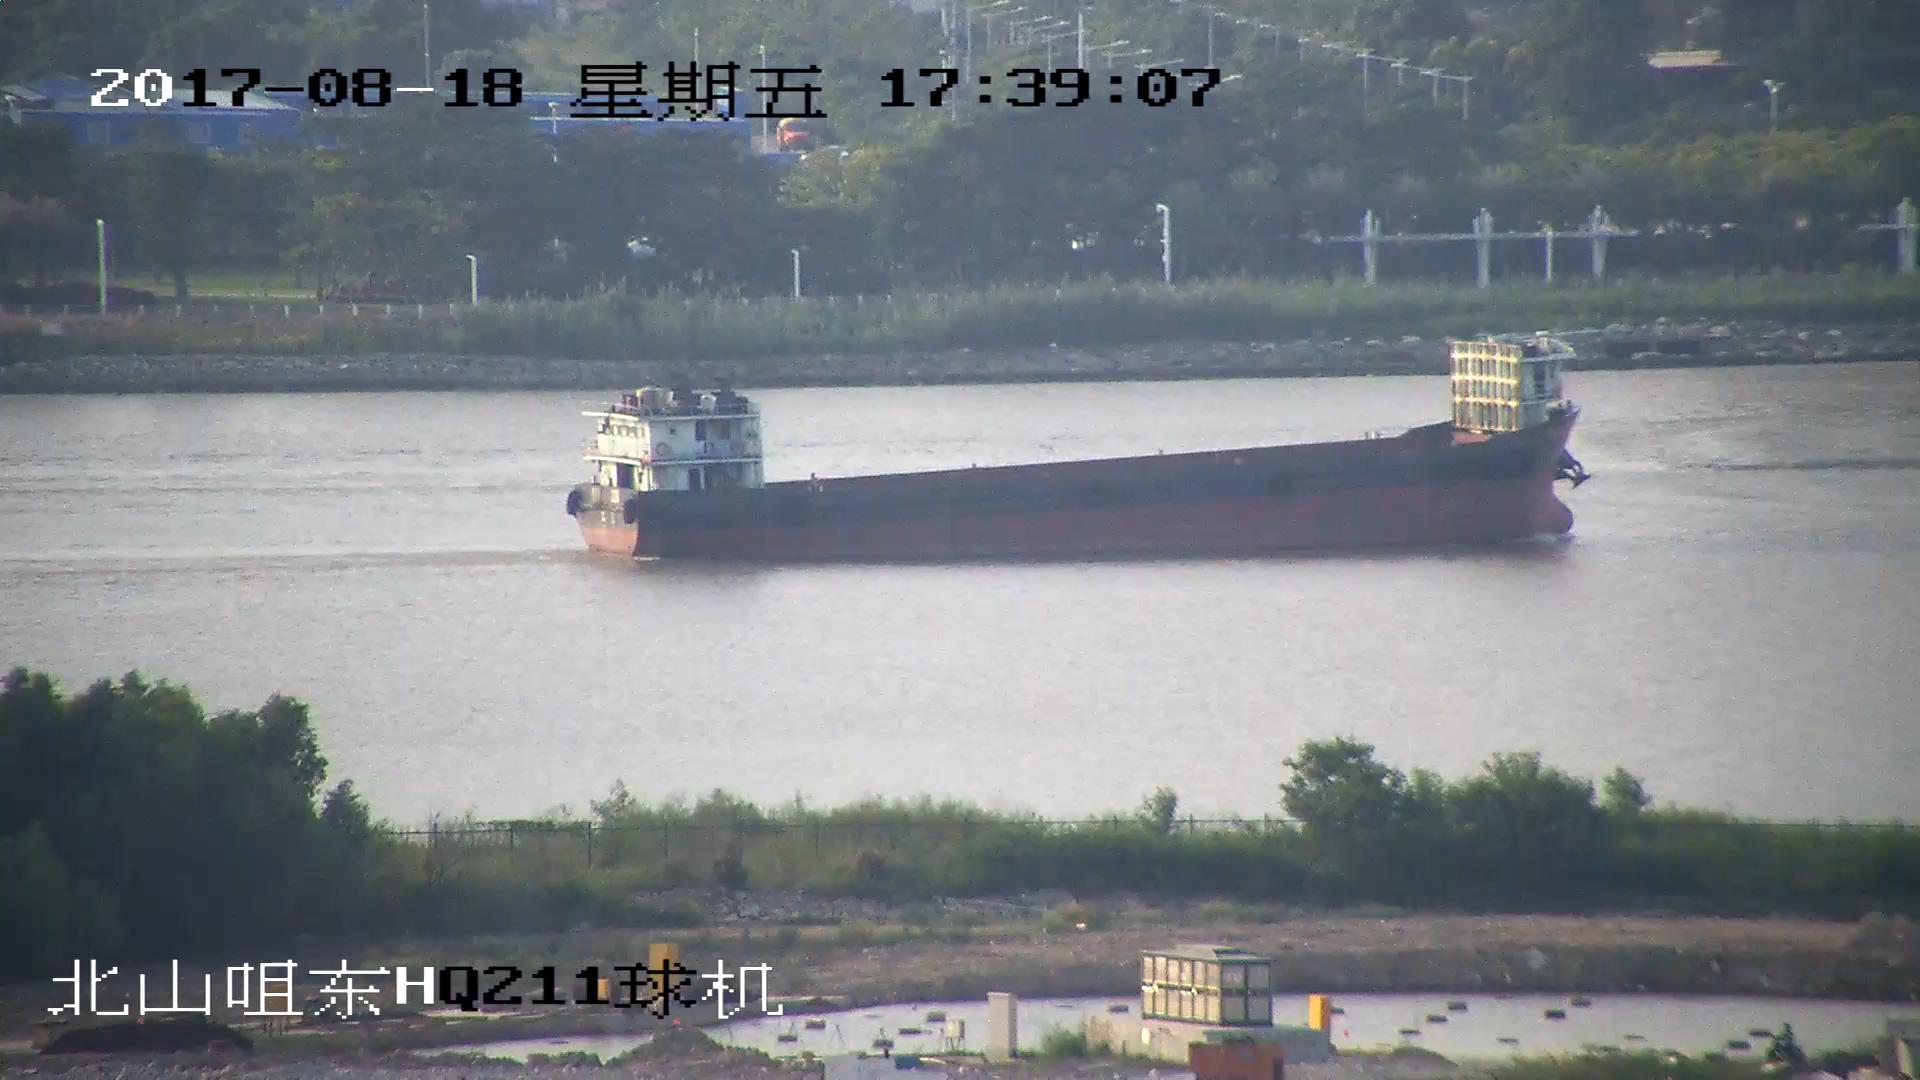general cargo ship: (567, 328, 1577, 554)
